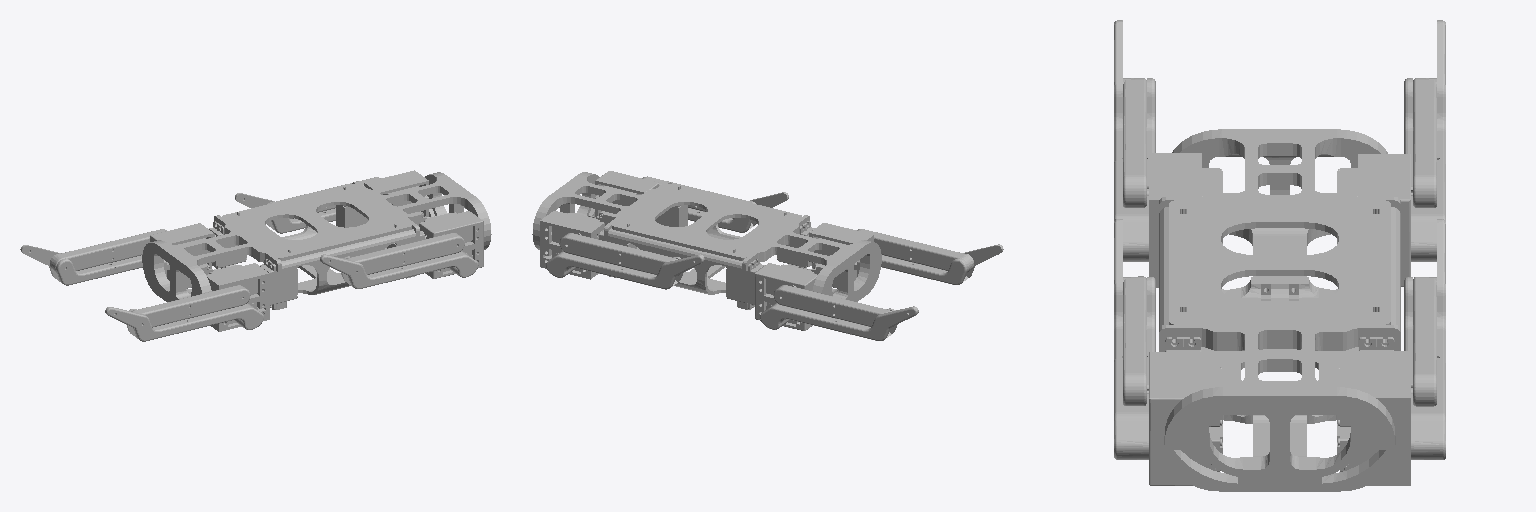
The robot description file, URDF, robot "chitrak_description":
<?xml version="1.0" encoding="utf-8"?>
<!-- This URDF was automatically created by SolidWorks to URDF Exporter! Originally created by Stephen Brawner (brawner@gmail.com) 
     Commit Version: 1.6.0-4-g7f85cfe  Build Version: 1.6.7995.38578
     For more information, please see http://wiki.ros.org/sw_urdf_exporter -->
<!-- Make changes at your own risk -->
<robot
  name="chitrak_description">
  <link
    name="base_link">
    <inertial>
      <origin
        xyz="-0.00238868927667727 -1.23101962146306E-05 -0.0259410834694735"
        rpy="0 0 0" />
      <mass
        value="0.531017962368296" />
      <inertia
        ixx="0.000784647282302847"
        ixy="-1.56473712454285E-07"
        ixz="-3.54024444284505E-06"
        iyy="0.000983761380504374"
        iyz="4.46505765897836E-08"
        izz="0.00139027431723193" />
    </inertial>
    <visual>
      <origin
        xyz="0 0 0"
        rpy="0 0 0" />
      <geometry>
        <mesh
          filename="package://chitrak_description/meshes/base_link.STL" />
      </geometry>
      <material
        name="">
        <color
          rgba="0.752941176470588 0.752941176470588 0.752941176470588 1" />
      </material>
    </visual>
    <collision>
      <origin
        xyz="0 0 0"
        rpy="0 0 0" />
      <geometry>
        <mesh
          filename="package://chitrak_description/meshes/base_link.STL" />
      </geometry>
    </collision>
  </link>
  <link
    name="fr_hip_link">
    <inertial>
      <origin
        xyz="0.0322826456698624 -0.000429460670132026 -0.0140006460468479"
        rpy="0 0 0" />
      <mass
        value="0.108648639391851" />
      <inertia
        ixx="2.69803474781915E-05"
        ixy="-8.80967987556737E-08"
        ixz="-5.44555996170503E-09"
        iyy="4.61678276210887E-05"
        iyz="-3.56636801717859E-08"
        izz="4.28733000741258E-05" />
    </inertial>
    <visual>
      <origin
        xyz="0 0 0"
        rpy="0 0 0" />
      <geometry>
        <mesh
          filename="package://chitrak_description/meshes/fr_hip_link.STL" />
      </geometry>
      <material
        name="">
        <color
          rgba="0.752941176470588 0.752941176470588 0.752941176470588 1" />
      </material>
    </visual>
    <collision>
      <origin
        xyz="0 0 0"
        rpy="0 0 0" />
      <geometry>
        <mesh
          filename="package://chitrak_description/meshes/fr_hip_link.STL" />
      </geometry>
    </collision>
  </link>
  <joint
    name="fr_hip_roll_joint"
    type="revolute">
    <origin
      xyz="0.1034 -0.0557689357599999 -0.018465"
      rpy="0 0 0" />
    <parent
      link="base_link" />
    <child
      link="fr_hip_link" />
    <axis
      xyz="1 0 0" />
    <limit
      lower="-1.57"
      upper="1.57"
      effort="0"
      velocity="0" />
  </joint>
  <link
    name="fr_thigh_link">
    <inertial>
      <origin
        xyz="-0.0626114782296221 -0.00685326400526645 5.4771380791907E-08"
        rpy="0 0 0" />
      <mass
        value="0.0357822939678729" />
      <inertia
        ixx="1.82903525937341E-06"
        ixy="2.15935075243341E-07"
        ixz="-2.9723814137515E-12"
        iyy="1.62889851478768E-05"
        iyz="1.38202710627414E-11"
        izz="1.56570192882523E-05" />
    </inertial>
    <visual>
      <origin
        xyz="0 0 0"
        rpy="0 0 0" />
      <geometry>
        <mesh
          filename="package://chitrak_description/meshes/fr_thigh_link.STL" />
      </geometry>
      <material
        name="">
        <color
          rgba="0.752941176470588 0.752941176470588 0.752941176470588 1" />
      </material>
    </visual>
    <collision>
      <origin
        xyz="0 0 0"
        rpy="0 0 0" />
      <geometry>
        <mesh
          filename="package://chitrak_description/meshes/fr_thigh_link.STL" />
      </geometry>
    </collision>
  </link>
  <joint
    name="fr_hip_pitch_joint"
    type="revolute">
    <origin
      xyz="0.0220549999999999 -0.021 0.000410000000000049"
      rpy="0 0 0" />
    <parent
      link="fr_hip_link" />
    <child
      link="fr_thigh_link" />
    <axis
      xyz="0 -1 0" />
    <limit
      lower="0"
      upper="3.14"
      effort="0"
      velocity="0" />
  </joint>
  <link
    name="fr_calf_link">
    <inertial>
      <origin
        xyz="0.0724501084741344 -0.00768913764949204 -0.016189558522504"
        rpy="0 0 0" />
      <mass
        value="0.0489996592044007" />
      <inertia
        ixx="7.01622854548788E-06"
        ixy="-1.05533550815407E-06"
        ixz="7.42615947085768E-06"
        iyy="3.61411874632668E-05"
        iyz="6.49288500493328E-07"
        izz="3.45164870583299E-05" />
    </inertial>
    <visual>
      <origin
        xyz="0 0 0"
        rpy="0 0 0" />
      <geometry>
        <mesh
          filename="package://chitrak_description/meshes/fr_calf_link.STL" />
      </geometry>
      <material
        name="">
        <color
          rgba="0.752941176470588 0.752941176470588 0.752941176470588 1" />
      </material>
    </visual>
    <collision>
      <origin
        xyz="0 0 0"
        rpy="0 0 0" />
      <geometry>
        <mesh
          filename="package://chitrak_description/meshes/fr_calf_link.STL" />
      </geometry>
    </collision>
  </link>
  <joint
    name="fr_knee_joint"
    type="revolute">
    <origin
      xyz="-0.13 5.00000000004802E-05 0"
      rpy="0 0 0" />
    <parent
      link="fr_thigh_link" />
    <child
      link="fr_calf_link" />
    <axis
      xyz="0 -1 0" />
    <limit
      lower="-3.14"
      upper="0"
      effort="0"
      velocity="0" />
  </joint>
  <link
    name="fl_hip_link">
    <inertial>
      <origin
        xyz="0.0319881655901347 0.00041006097321835 -0.0140990846243295"
        rpy="0 0 0" />
      <mass
        value="0.10854268640342" />
      <inertia
        ixx="2.69792196637052E-05"
        ixy="8.7562009673017E-08"
        ixz="-4.39624893284498E-09"
        iyy="4.61463606969833E-05"
        iyz="-4.17749420685969E-10"
        izz="4.28244714163397E-05" />
    </inertial>
    <visual>
      <origin
        xyz="0 0 0"
        rpy="0 0 0" />
      <geometry>
        <mesh
          filename="package://chitrak_description/meshes/fl_hip_link.STL" />
      </geometry>
      <material
        name="">
        <color
          rgba="0.752941176470588 0.752941176470588 0.752941176470588 1" />
      </material>
    </visual>
    <collision>
      <origin
        xyz="0 0 0"
        rpy="0 0 0" />
      <geometry>
        <mesh
          filename="package://chitrak_description/meshes/fl_hip_link.STL" />
      </geometry>
    </collision>
  </link>
  <joint
    name="fl_hip_roll_joint"
    type="revolute">
    <origin
      xyz="0.1034 0.0557689357600009 -0.0184649999999999"
      rpy="0 0 0" />
    <parent
      link="base_link" />
    <child
      link="fl_hip_link" />
    <axis
      xyz="1 0 0" />
    <limit
      lower="-1.57"
      upper="1.57"
      effort="0"
      velocity="0" />
  </joint>
  <link
    name="fl_thigh_link">
    <inertial>
      <origin
        xyz="-0.062611 0.0068533 -5.4771E-08"
        rpy="0 0 0" />
      <mass
        value="0.035782" />
      <inertia
        ixx="1.829E-06"
        ixy="-2.1594E-07"
        ixz="2.9724E-12"
        iyy="1.6289E-05"
        iyz="1.382E-11"
        izz="1.5657E-05" />
    </inertial>
    <visual>
      <origin
        xyz="0 0 0"
        rpy="0 0 0" />
      <geometry>
        <mesh
          filename="package://chitrak_description/meshes/fl_thigh_link.STL" />
      </geometry>
      <material
        name="">
        <color
          rgba="0.75294 0.75294 0.75294 1" />
      </material>
    </visual>
    <collision>
      <origin
        xyz="0 0 0"
        rpy="0 0 0" />
      <geometry>
        <mesh
          filename="package://chitrak_description/meshes/fl_thigh_link.STL" />
      </geometry>
    </collision>
  </link>
  <joint
    name="fl_hip_pitch_joint"
    type="revolute">
    <origin
      xyz="0.0215750000000005 0.0209999999999998 0"
      rpy="0 0 0" />
    <parent
      link="fl_hip_link" />
    <child
      link="fl_thigh_link" />
    <axis
      xyz="0 1 0" />
    <limit
      lower="-3.14"
      upper="0"
      effort="0"
      velocity="0" />
  </joint>
  <link
    name="fl_calf_link">
    <inertial>
      <origin
        xyz="0.0724809018472975 0.00768626053965757 -0.0162002299958432"
        rpy="0 0 0" />
      <mass
        value="0.0489855091798814" />
      <inertia
        ixx="7.00076258765256E-06"
        ixy="1.06344924655147E-06"
        ixz="7.40498912888899E-06"
        iyy="3.60933899371474E-05"
        iyz="-6.52952403984501E-07"
        izz="3.44788847366438E-05" />
    </inertial>
    <visual>
      <origin
        xyz="0 0 0"
        rpy="0 0 0" />
      <geometry>
        <mesh
          filename="package://chitrak_description/meshes/fl_calf_link.STL" />
      </geometry>
      <material
        name="">
        <color
          rgba="0.752941176470588 0.752941176470588 0.752941176470588 1" />
      </material>
    </visual>
    <collision>
      <origin
        xyz="0 0 0"
        rpy="0 0 0" />
      <geometry>
        <mesh
          filename="package://chitrak_description/meshes/fl_calf_link.STL" />
      </geometry>
    </collision>
  </link>
  <joint
    name="fl_knee_joint"
    type="revolute">
    <origin
      xyz="-0.13 -4.99999999997447E-05 0"
      rpy="0 0 0" />
    <parent
      link="fl_thigh_link" />
    <child
      link="fl_calf_link" />
    <axis
      xyz="0 1 0" />
    <limit
      lower="0"
      upper="3.14"
      effort="0"
      velocity="0" />
  </joint>
  <link
    name="br_hip_link">
    <inertial>
      <origin
        xyz="-0.032135543416442 -0.000410060973218468 -0.013973199397692"
        rpy="0 0 0" />
      <mass
        value="0.10854268640342" />
      <inertia
        ixx="2.69792196637053E-05"
        ixy="8.75620096729818E-08"
        ixz="4.39624893285847E-09"
        iyy="4.61463606969833E-05"
        iyz="4.17749420667756E-10"
        izz="4.28244714163397E-05" />
    </inertial>
    <visual>
      <origin
        xyz="0 0 0"
        rpy="0 0 0" />
      <geometry>
        <mesh
          filename="package://chitrak_description/meshes/br_hip_link.STL" />
      </geometry>
      <material
        name="">
        <color
          rgba="0.752941176470588 0.752941176470588 0.752941176470588 1" />
      </material>
    </visual>
    <collision>
      <origin
        xyz="0 0 0"
        rpy="0 0 0" />
      <geometry>
        <mesh
          filename="package://chitrak_description/meshes/br_hip_link.STL" />
      </geometry>
    </collision>
  </link>
  <joint
    name="br_hip_roll_joint"
    type="revolute">
    <origin
      xyz="-0.1034 -0.0557689357600001 -0.0184649999999999"
      rpy="0 0 0" />
    <parent
      link="base_link" />
    <child
      link="br_hip_link" />
    <axis
      xyz="-1 0 0" />
    <limit
      lower="-1.57"
      upper="1.57"
      effort="0"
      velocity="0" />
  </joint>
  <link
    name="br_thigh_link">
    <inertial>
      <origin
        xyz="-0.0626114782296221 -0.00685326400526678 5.47713807641514E-08"
        rpy="0 0 0" />
      <mass
        value="0.0357822939678729" />
      <inertia
        ixx="1.82903525937341E-06"
        ixy="2.15935075243268E-07"
        ixz="-2.97238141639413E-12"
        iyy="1.62889851478768E-05"
        iyz="1.38202710644727E-11"
        izz="1.56570192882523E-05" />
    </inertial>
    <visual>
      <origin
        xyz="0 0 0"
        rpy="0 0 0" />
      <geometry>
        <mesh
          filename="package://chitrak_description/meshes/br_thigh_link.STL" />
      </geometry>
      <material
        name="">
        <color
          rgba="0.752941176470588 0.752941176470588 0.752941176470588 1" />
      </material>
    </visual>
    <collision>
      <origin
        xyz="0 0 0"
        rpy="0 0 0" />
      <geometry>
        <mesh
          filename="package://chitrak_description/meshes/br_thigh_link.STL" />
      </geometry>
    </collision>
  </link>
  <joint
    name="br_hip_pitch_joint"
    type="revolute">
    <origin
      xyz="-0.041945 -0.0209999999999999 0.000409999999999938"
      rpy="0 0 0" />
    <parent
      link="br_hip_link" />
    <child
      link="br_thigh_link" />
    <axis
      xyz="0 -1 0" />
    <limit
      lower="0"
      upper="3.14"
      effort="0"
      velocity="0" />
  </joint>
  <link
    name="br_calf_link">
    <inertial>
      <origin
        xyz="0.0724501084741344 -0.0076891376494919 -0.016189558522504"
        rpy="0 0 0" />
      <mass
        value="0.0489996592044007" />
      <inertia
        ixx="7.01622854548784E-06"
        ixy="-1.05533550815411E-06"
        ixz="7.42615947085765E-06"
        iyy="3.61411874632668E-05"
        iyz="6.49288500493334E-07"
        izz="3.45164870583299E-05" />
    </inertial>
    <visual>
      <origin
        xyz="0 0 0"
        rpy="0 0 0" />
      <geometry>
        <mesh
          filename="package://chitrak_description/meshes/br_calf_link.STL" />
      </geometry>
      <material
        name="">
        <color
          rgba="0.752941176470588 0.752941176470588 0.752941176470588 1" />
      </material>
    </visual>
    <collision>
      <origin
        xyz="0 0 0"
        rpy="0 0 0" />
      <geometry>
        <mesh
          filename="package://chitrak_description/meshes/br_calf_link.STL" />
      </geometry>
    </collision>
  </link>
  <joint
    name="br_knee_joint"
    type="revolute">
    <origin
      xyz="-0.13 4.99999999997308E-05 0"
      rpy="0 0 0" />
    <parent
      link="br_thigh_link" />
    <child
      link="br_calf_link" />
    <axis
      xyz="0 -1 0" />
    <limit
      lower="-3.14"
      upper="0"
      effort="0"
      velocity="0" />
  </joint>
  <link
    name="bl_hip_link">
    <inertial>
      <origin
        xyz="-0.0319881774598005 0.000429460670132019 -0.0140006460468479"
        rpy="0 0 0" />
      <mass
        value="0.108648639391851" />
      <inertia
        ixx="2.69803474781915E-05"
        ixy="-8.80967987556525E-08"
        ixz="5.44555996171056E-09"
        iyy="4.61678276210886E-05"
        iyz="3.56636801717788E-08"
        izz="4.28733000741258E-05" />
    </inertial>
    <visual>
      <origin
        xyz="0 0 0"
        rpy="0 0 0" />
      <geometry>
        <mesh
          filename="package://chitrak_description/meshes/bl_hip_link.STL" />
      </geometry>
      <material
        name="">
        <color
          rgba="0.752941176470588 0.752941176470588 0.752941176470588 1" />
      </material>
    </visual>
    <collision>
      <origin
        xyz="0 0 0"
        rpy="0 0 0" />
      <geometry>
        <mesh
          filename="package://chitrak_description/meshes/bl_hip_link.STL" />
      </geometry>
    </collision>
  </link>
  <joint
    name="bl_hip_roll_joint"
    type="revolute">
    <origin
      xyz="-0.1034 0.055769 -0.018465"
      rpy="0 0 0" />
    <parent
      link="base_link" />
    <child
      link="bl_hip_link" />
    <axis
      xyz="-1 0 0" />
    <limit
      lower="-1.57"
      upper="1.57"
      effort="0"
      velocity="0" />
  </joint>
  <link
    name="bl_thigh_link">
    <inertial>
      <origin
        xyz="-0.0626114782296221 0.00685326400526652 -5.47713807988459E-08"
        rpy="0 0 0" />
      <mass
        value="0.0357822939678729" />
      <inertia
        ixx="1.82903525937341E-06"
        ixy="-2.15935075243323E-07"
        ixz="2.97238141685938E-12"
        iyy="1.62889851478768E-05"
        iyz="1.38202710631286E-11"
        izz="1.56570192882523E-05" />
    </inertial>
    <visual>
      <origin
        xyz="0 0 0"
        rpy="0 0 0" />
      <geometry>
        <mesh
          filename="package://chitrak_description/meshes/bl_thigh_link.STL" />
      </geometry>
      <material
        name="">
        <color
          rgba="0.752941176470588 0.752941176470588 0.752941176470588 1" />
      </material>
    </visual>
    <collision>
      <origin
        xyz="0 0 0"
        rpy="0 0 0" />
      <geometry>
        <mesh
          filename="package://chitrak_description/meshes/bl_thigh_link.STL" />
      </geometry>
    </collision>
  </link>
  <joint
    name="bl_hip_pitch_joint"
    type="revolute">
    <origin
      xyz="-0.041945 0.021 0.00041"
      rpy="0 0 0" />
    <parent
      link="bl_hip_link" />
    <child
      link="bl_thigh_link" />
    <axis
      xyz="0 1 0" />
    <limit
      lower="-3.14"
      upper="0"
      effort="0"
      velocity="0" />
  </joint>
  <link
    name="bl_calf_link">
    <inertial>
      <origin
        xyz="0.0724809018472974 0.00768626053965776 -0.0162002299958433"
        rpy="0 0 0" />
      <mass
        value="0.0489855091798813" />
      <inertia
        ixx="7.00076258765258E-06"
        ixy="1.0634492465514E-06"
        ixz="7.40498912888901E-06"
        iyy="3.60933899371474E-05"
        iyz="-6.5295240398448E-07"
        izz="3.44788847366437E-05" />
    </inertial>
    <visual>
      <origin
        xyz="0 0 0"
        rpy="0 0 0" />
      <geometry>
        <mesh
          filename="package://chitrak_description/meshes/bl_calf_link.STL" />
      </geometry>
      <material
        name="">
        <color
          rgba="0.752941176470588 0.752941176470588 0.752941176470588 1" />
      </material>
    </visual>
    <collision>
      <origin
        xyz="0 0 0"
        rpy="0 0 0" />
      <geometry>
        <mesh
          filename="package://chitrak_description/meshes/bl_calf_link.STL" />
      </geometry>
    </collision>
  </link>
  <joint
    name="bl_knee_joint"
    type="revolute">
    <origin
      xyz="-0.13 -5E-05 0"
      rpy="0 0 0" />
    <parent
      link="bl_thigh_link" />
    <child
      link="bl_calf_link" />
    <axis
      xyz="0 1 0" />
    <limit
      lower="0"
      upper="3.14"
      effort="0"
      velocity="0" />
  </joint>
</robot>

--- Render facts (derived) ---
The picture shows the robot from 3 angles, left to right: view 1: azimuth 30°, elevation 25°; view 2: azimuth 150°, elevation 25°; view 3: azimuth 270°, elevation 25°; orthographic projection.
Model chitrak_description with 13 links and 12 joints (12 revolute), rooted at base_link, posed every joint at zero.
Links seen in each view (by area): view 1: base_link, fr_calf_link, br_calf_link, br_thigh_link, fr_thigh_link, br_hip_link, fr_hip_link, bl_thigh_link, bl_calf_link, fl_hip_link, bl_hip_link, fl_calf_link; view 2: base_link, bl_calf_link, fl_calf_link, fl_thigh_link, bl_thigh_link, fl_hip_link, bl_hip_link, br_thigh_link, br_calf_link, br_hip_link, fr_hip_link, fr_calf_link; view 3: base_link, fl_hip_link, fr_hip_link, fr_calf_link, fl_calf_link, bl_calf_link, br_calf_link, br_hip_link, bl_hip_link, fl_thigh_link, br_thigh_link, bl_thigh_link (+1 smaller).
Link boxes in pixels (box(x1,y1,x2,y2)): base_link: box(142, 172, 491, 309); fr_calf_link: box(320, 251, 478, 288); br_calf_link: box(105, 303, 263, 341); br_thigh_link: box(131, 285, 250, 327); fr_thigh_link: box(346, 233, 464, 275); br_hip_link: box(206, 263, 269, 331); fr_hip_link: box(419, 211, 483, 278); bl_thigh_link: box(52, 229, 166, 272); bl_calf_link: box(20, 245, 142, 285); fl_hip_link: box(364, 170, 434, 225); bl_hip_link: box(150, 223, 220, 288); fl_calf_link: box(235, 193, 335, 233); base_link: box(532, 172, 881, 309); bl_calf_link: box(760, 303, 918, 340); fl_calf_link: box(546, 251, 704, 289); fl_thigh_link: box(559, 233, 679, 275); bl_thigh_link: box(773, 285, 893, 326); fl_hip_link: box(540, 211, 604, 279); bl_hip_link: box(755, 263, 817, 330); br_thigh_link: box(857, 229, 971, 272); br_calf_link: box(881, 244, 1003, 284); br_hip_link: box(803, 223, 873, 288); fr_hip_link: box(588, 171, 658, 225); fr_calf_link: box(688, 192, 788, 232); base_link: box(1159, 129, 1400, 491); fl_hip_link: box(1337, 351, 1412, 485); fr_hip_link: box(1147, 352, 1222, 485); fr_calf_link: box(1114, 219, 1155, 459); fl_calf_link: box(1404, 219, 1445, 459); bl_calf_link: box(1404, 20, 1445, 261); br_calf_link: box(1114, 20, 1155, 261); br_hip_link: box(1147, 153, 1222, 287); bl_hip_link: box(1337, 154, 1412, 286); fl_thigh_link: box(1413, 277, 1436, 406); br_thigh_link: box(1123, 78, 1146, 207); bl_thigh_link: box(1413, 78, 1436, 207).
Bounding box of the posed robot: 0.5018 × 0.1916 × 0.0712 m (x, y, z).
Meshes: 13 distinct files referenced, 13 mesh visuals loaded (13 binary STL).
